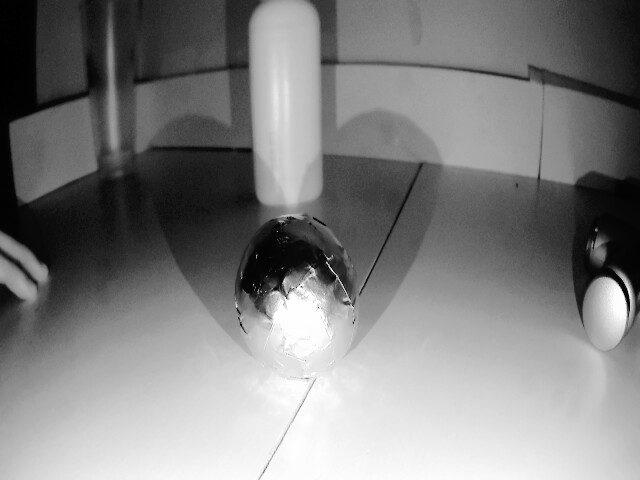silver: (229, 219, 367, 373)
